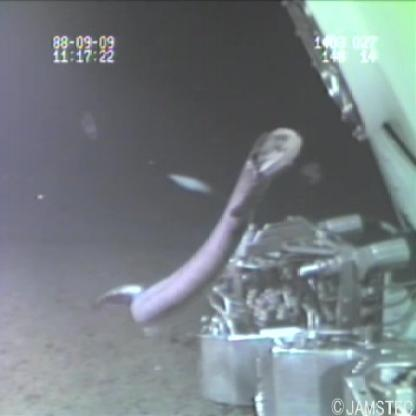Bio: (93, 121, 310, 334)
Rov: (196, 210, 416, 413)
